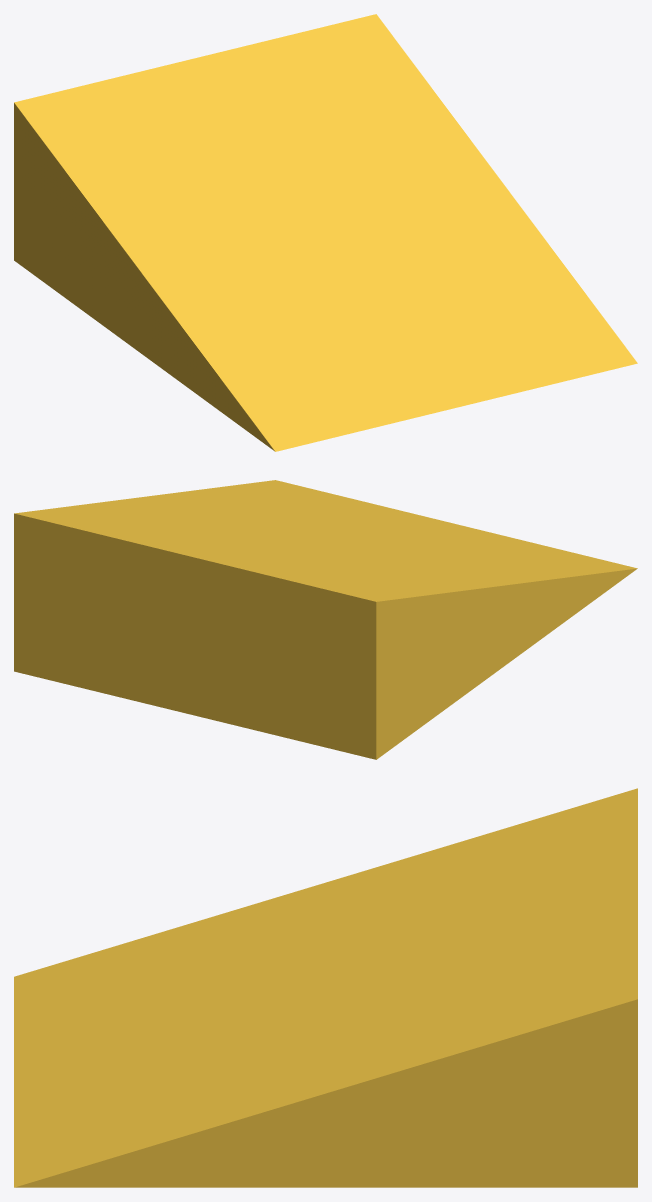
Rendered from Jumping_Ramp.fbx.
The picture shows the model from 3 angles, top to bottom: view 1: azimuth 30°, elevation 25°; view 2: azimuth 150°, elevation 25°; view 3: azimuth 270°, elevation 25°; orthographic projection. The views are drawn at different scales.
Parts seen in each view (by area): view 1: Ramp; view 2: Ramp; view 3: Ramp.
Boxes of the visible parts, x1=… form: Ramp: x1=14, y1=14, x2=637, y2=451; Ramp: x1=14, y1=480, x2=637, y2=759; Ramp: x1=14, y1=788, x2=637, y2=1187.
Size of the model in its own units: 2.4 by 1 by 3.
